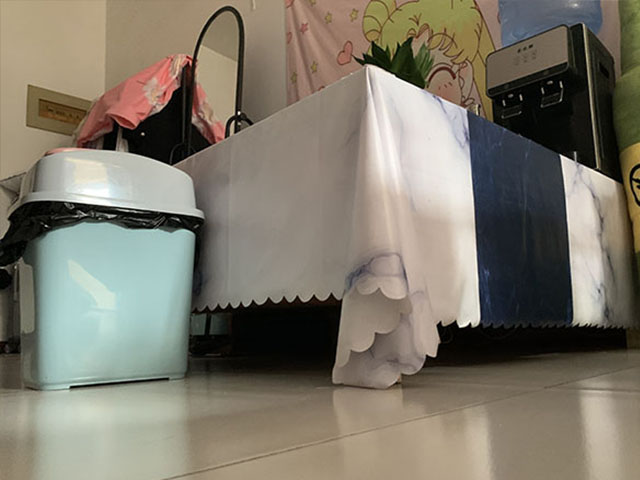table: (206, 62, 640, 392)
trashcan: (1, 148, 205, 393)
